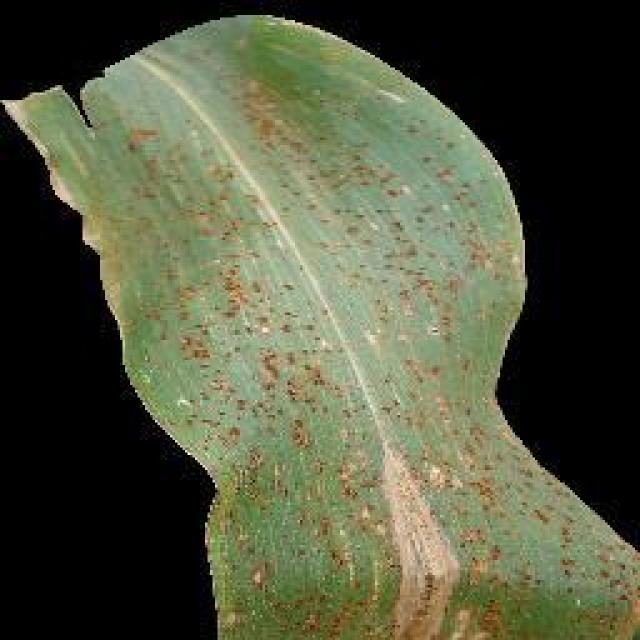Corn Common Rust: (195, 89, 552, 628)
